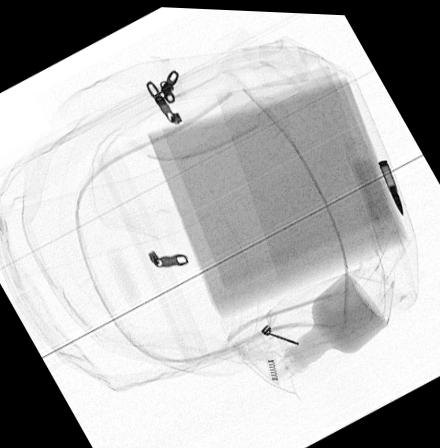Bullet: (377, 156, 404, 213)
